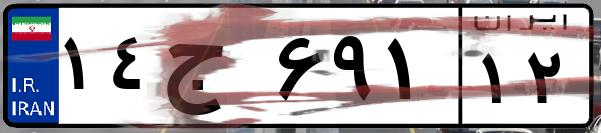1: (385, 28, 445, 110), (57, 26, 110, 100), (475, 38, 525, 113)
2: (525, 38, 570, 115)
4: (110, 28, 158, 98)
6: (270, 28, 330, 110)
9: (330, 28, 385, 110)
ج: (158, 20, 270, 120)
